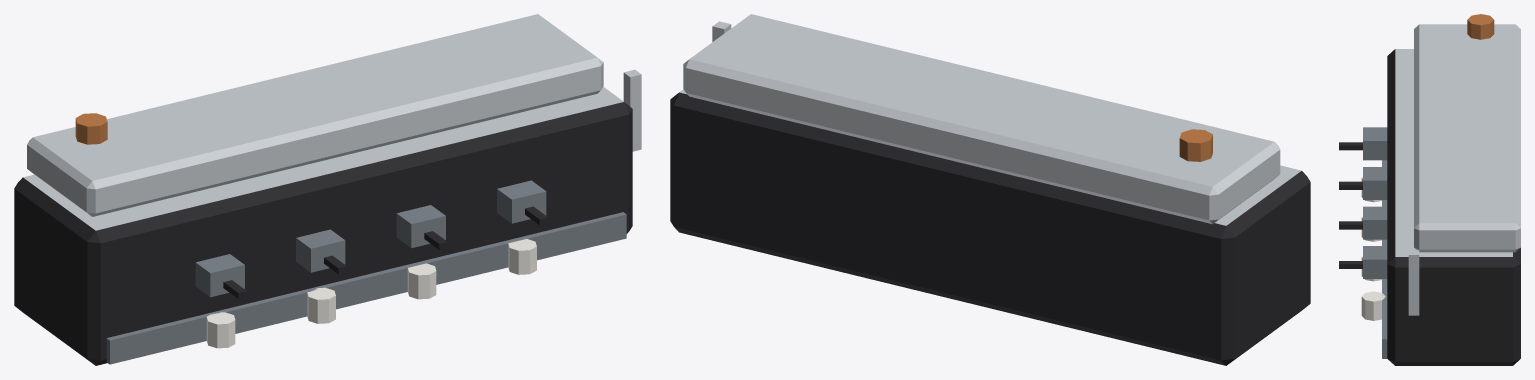
File: espresso_4.fbx
3 views of the same model, side by side, from view 1: azimuth 30°, elevation 25°; view 2: azimuth 150°, elevation 25°; view 3: azimuth 270°, elevation 25° (orthographic). The views are drawn at different scales.
Visible parts, largest first — view 1: espresso_4; view 2: espresso_4; view 3: espresso_4.
Part boxes in pixels (<box>): espresso_4: <box>14,14,641,365</box>; espresso_4: <box>670,14,1310,365</box>; espresso_4: <box>1339,14,1520,365</box>.
Bounding box in the file's own units: 1.96 × 0.65 × 0.68.
